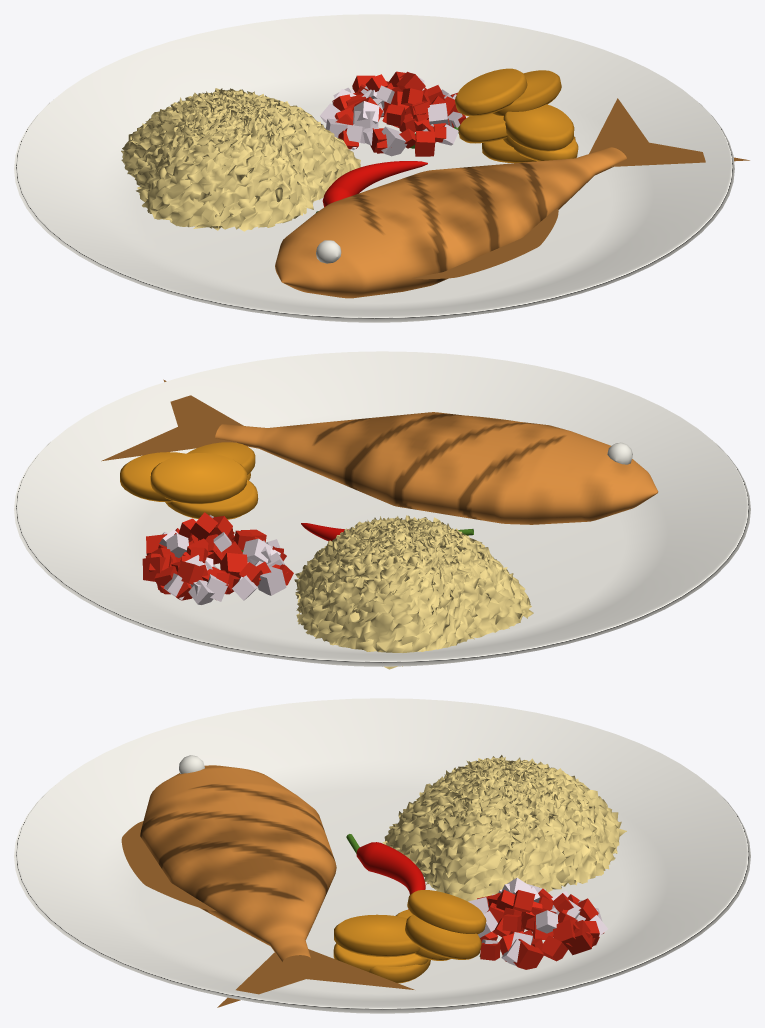
Rendered from attieke-poisson.glb.
The picture shows the model from 3 angles, top to bottom: view 1: azimuth 30°, elevation 25°; view 2: azimuth 150°, elevation 25°; view 3: azimuth 270°, elevation 25°; orthographic projection. The views are drawn at different scales.
Visible parts, largest first — view 1: assiette, poisson, attieke, alloco, sauce_tomate, sauce_oignon, piment; view 2: assiette, poisson, attieke, alloco, sauce_tomate, sauce_oignon; view 3: assiette, poisson, attieke, alloco, sauce_tomate, sauce_oignon, piment.
Part boxes in pixels (box(x1,y1,x2,y2)): assiette: box(14, 14, 734, 322); poisson: box(275, 98, 749, 298); attieke: box(121, 88, 360, 231); alloco: box(455, 68, 578, 163); sauce_tomate: box(332, 71, 465, 156); sauce_oignon: box(320, 77, 462, 156); piment: box(322, 161, 427, 207); assiette: box(14, 351, 750, 666); poisson: box(101, 379, 658, 524); attieke: box(294, 515, 533, 669); alloco: box(120, 442, 258, 519); sauce_tomate: box(142, 512, 293, 600); sauce_oignon: box(159, 515, 286, 604); assiette: box(14, 698, 750, 1013); poisson: box(121, 765, 414, 1007); attieke: box(382, 755, 626, 901); alloco: box(333, 890, 486, 983); sauce_tomate: box(477, 888, 604, 969); sauce_oignon: box(468, 877, 607, 965); piment: box(356, 842, 425, 909).
Bounding box in the file's own units: 0.304 × 0.0452 × 0.304.
